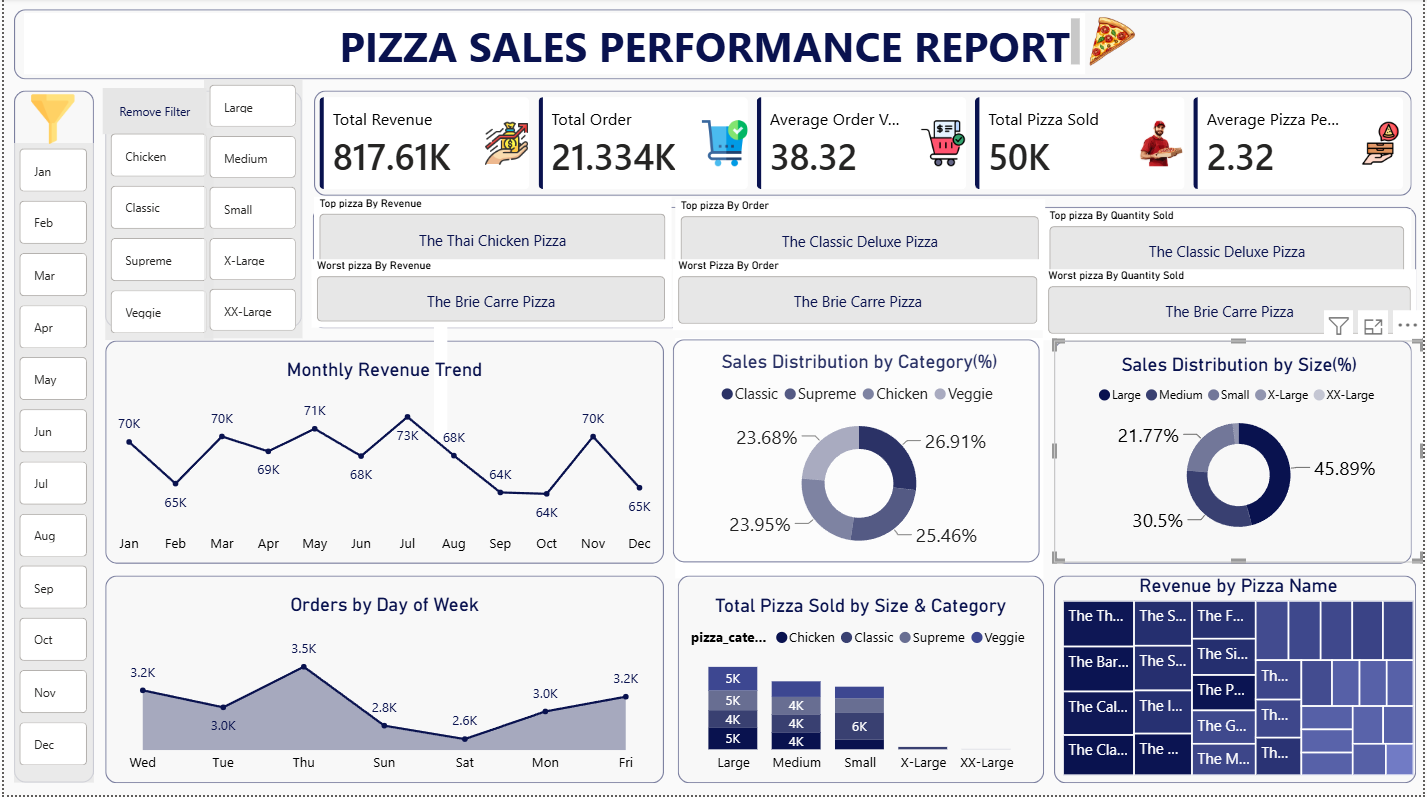

What the dashboard file says about the page in this screenshot:
{"tool":"powerbi","page":{"name":"Page 1","canvas":[1280,720],"ordinal":0},"visuals":[{"type":"group","id":"g1","title":"Group 1","box":[8.9,10.1,1264.6,697.5],"z":0},{"type":"shape","box":[8.9,10.1,1260.8,63.3],"z":0,"group":"g1"},{"type":"shape","box":[8.9,83.5,72.2,624.1],"z":1000,"group":"g1"},{"type":"cardVisual","fields":{"Data":["PIZZA SALES.Total Revenue","PIZZA SALES.Total Order","PIZZA SALES.Average Order Value","PIZZA SALES.Total Pizza Sold","PIZZA SALES.Average Pizza Per Order"]},"box":[279.3,84.1,990.2,93.9],"z":1000},{"type":"donutChart","title":"Sales Distribution by Category(%)","fields":{"Category":["PIZZA SALES.pizza_category"],"Y":["PIZZA SALES.Total Revenue"]},"box":[605.4,306.3,331.7,217.1],"z":2000,"group":"g1"},{"type":"lineChart","title":"Monthly Revenue Trend","fields":{"Category":["PIZZA SALES.Month Name"],"Y":["PIZZA SALES.Total Revenue"]},"box":[91.5,308.5,503.7,201.2],"z":2000},{"type":"shape","box":[91.2,83.5,177.2,213.9],"z":3000,"group":"g1"},{"type":"donutChart","title":"Sales Distribution by Size(%)","fields":{"Category":["PIZZA SALES.pizza_size"],"Y":["PIZZA SALES.Total Revenue"]},"box":[946.9,308.6,333.3,201.2],"z":3000},{"type":"shape","box":[279.8,83.5,989.9,94.9],"z":4000,"group":"g1"},{"type":"lineChart","title":"Orders by Day of Week","fields":{"Y":["PIZZA SALES.Total Order"],"Category":["PIZZA SALES.Day Name"]},"box":[91.5,520.7,503.7,186.6],"z":4000},{"type":"actionButton","box":[89.3,81.5,93.8,42],"z":4013,"group":"g1"},{"type":"shape","box":[278.2,187.7,995.1,109.9],"z":5000,"group":"g1"},{"type":"columnChart","title":"Total Pizza Sold by Size & Category","fields":{"Category":["PIZZA SALES.pizza_size"],"Y":["PIZZA SALES.Total Pizza Sold"],"Series":["PIZZA SALES.pizza_category"]},"box":[607.4,519.8,329.6,187.7],"z":5000},{"type":"shape","box":[91.2,308.8,503.8,201.3],"z":6000,"group":"g1"},{"type":"treemap","title":" Revenue by Pizza Name","fields":{"Group":["PIZZA SALES.pizza_name"],"Values":["PIZZA SALES.Total Revenue"]},"box":[950.6,519.8,325.9,186.4],"z":6000},{"type":"advancedSlicerVisual","title":"Top pizza By Revenue","fields":{"Values":["PIZZA SALES.pizza_name"]},"box":[280.2,187.7,322.2,66.7],"z":7000},{"type":"shape","box":[91.2,520.2,503.8,187.3],"z":7000,"group":"g1"},{"type":"advancedSlicerVisual","title":"Worst pizza By Revenue","fields":{"Values":["PIZZA SALES.pizza_name"]},"box":[277.8,235.8,324.7,61.7],"z":8000},{"type":"shape","box":[602.9,307.5,330.9,201.2],"z":8000,"group":"g1"},{"type":"advancedSlicerVisual","title":"Top pizza By Quantity Sold","fields":{"Values":["PIZZA SALES.pizza_name"]},"box":[938.3,190.1,330.9,64.2],"z":9000},{"type":"shape","box":[946.9,308.8,322.8,201.3],"z":9000,"group":"g1"},{"type":"advancedSlicerVisual","title":"Top pizza By Order","fields":{"Values":["PIZZA SALES.pizza_name"]},"box":[604.9,188.9,333.3,64.2],"z":10000},{"type":"shape","box":[946.9,520.2,326.6,187.3],"z":10000,"group":"g1"},{"type":"advancedSlicerVisual","title":"Worst Pizza By Order","fields":{"Values":["PIZZA SALES.pizza_name"]},"box":[602.5,235.8,334.6,64.2],"z":11000},{"type":"shape","box":[607.6,520.2,330.4,187.3],"z":11000,"group":"g1"},{"type":"advancedSlicerVisual","title":"Worst pizza By Quantity Sold","fields":{"Values":["PIZZA SALES.pizza_name"]},"box":[937,244.4,337,64.2],"z":12000},{"type":"advancedSlicerVisual","fields":{"Values":["PIZZA SALES.Month Name"]},"box":[8.6,130.9,71.6,576.5],"z":13000},{"type":"advancedSlicerVisual","fields":{"Values":["PIZZA SALES.pizza_category"]},"box":[91.4,117.3,97.5,191.4],"z":14000},{"type":"advancedSlicerVisual","fields":{"Values":["PIZZA SALES.pizza_size"]},"box":[180.2,72.8,88.9,233.3],"z":15000},{"type":"textbox","box":[388.1,274.1,12.3,125.9],"z":15002,"group":"g1"},{"type":"image","box":[6.2,86.4,76.5,44.4],"z":16000},{"type":"textbox","box":[18.5,13.6,956.8,55.6],"z":17000},{"type":"image","box":[843.2,13.6,309.9,51.9],"z":18000}]}

Visuals, with their boxes in screenshot pixels (x1, y1, x2, y2), scaled from the page's 1280x720 canvas onto the 1427x797 screenshot:
"Group 1" group: <region>10, 11, 1420, 783</region>
shape: <region>10, 11, 1416, 81</region>
shape: <region>10, 92, 90, 783</region>
cardVisual - PIZZA SALES.Total Revenue x PIZZA SALES.Total Order: <region>311, 93, 1415, 197</region>
"Sales Distribution by Category(%)" donutChart: <region>675, 339, 1045, 579</region>
"Monthly Revenue Trend" lineChart: <region>102, 341, 664, 564</region>
shape: <region>102, 92, 299, 329</region>
"Sales Distribution by Size(%)" donutChart: <region>1056, 342, 1426, 564</region>
shape: <region>312, 92, 1416, 197</region>
"Orders by Day of Week" lineChart: <region>102, 576, 664, 783</region>
actionButton: <region>100, 90, 204, 137</region>
shape: <region>310, 208, 1420, 329</region>
"Total Pizza Sold by Size & Category" columnChart: <region>677, 575, 1045, 783</region>
shape: <region>102, 342, 663, 565</region>
" Revenue by Pizza Name" treemap: <region>1060, 575, 1423, 782</region>
"Top pizza By Revenue" advancedSlicerVisual: <region>312, 208, 672, 282</region>
shape: <region>102, 576, 663, 783</region>
"Worst pizza By Revenue" advancedSlicerVisual: <region>310, 261, 672, 329</region>
shape: <region>672, 340, 1041, 563</region>
"Top pizza By Quantity Sold" advancedSlicerVisual: <region>1046, 210, 1415, 281</region>
shape: <region>1056, 342, 1416, 565</region>
"Top pizza By Order" advancedSlicerVisual: <region>674, 209, 1046, 280</region>
shape: <region>1056, 576, 1420, 783</region>
"Worst Pizza By Order" advancedSlicerVisual: <region>672, 261, 1045, 332</region>
shape: <region>677, 576, 1046, 783</region>
"Worst pizza By Quantity Sold" advancedSlicerVisual: <region>1045, 271, 1420, 342</region>
advancedSlicerVisual - PIZZA SALES.Month Name: <region>10, 145, 89, 783</region>
advancedSlicerVisual - PIZZA SALES.pizza_category: <region>102, 130, 211, 342</region>
advancedSlicerVisual - PIZZA SALES.pizza_size: <region>201, 81, 300, 339</region>
textbox: <region>433, 303, 446, 443</region>
image: <region>7, 96, 92, 145</region>
textbox: <region>21, 15, 1087, 77</region>
image: <region>940, 15, 1286, 73</region>
